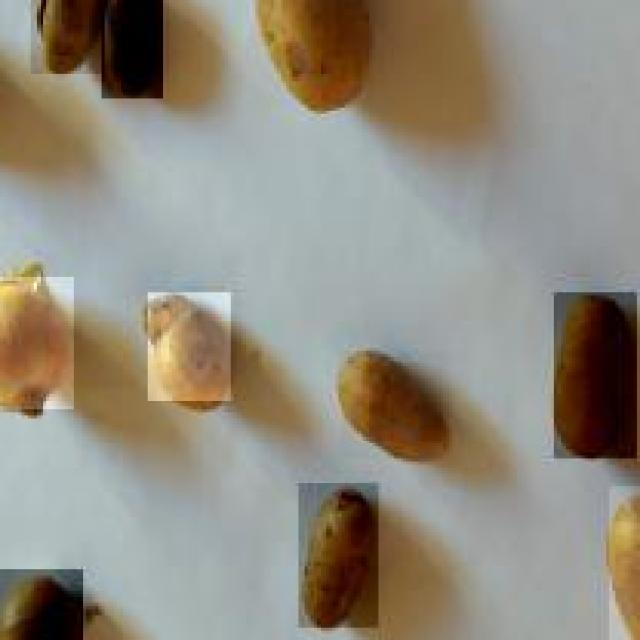onion: (0, 277, 71, 412), (144, 292, 230, 402), (99, 0, 163, 102), (27, 0, 104, 77), (0, 569, 83, 640)
potato: (550, 293, 636, 462), (252, 0, 372, 111), (338, 351, 452, 462), (296, 483, 378, 631), (606, 486, 640, 640)
